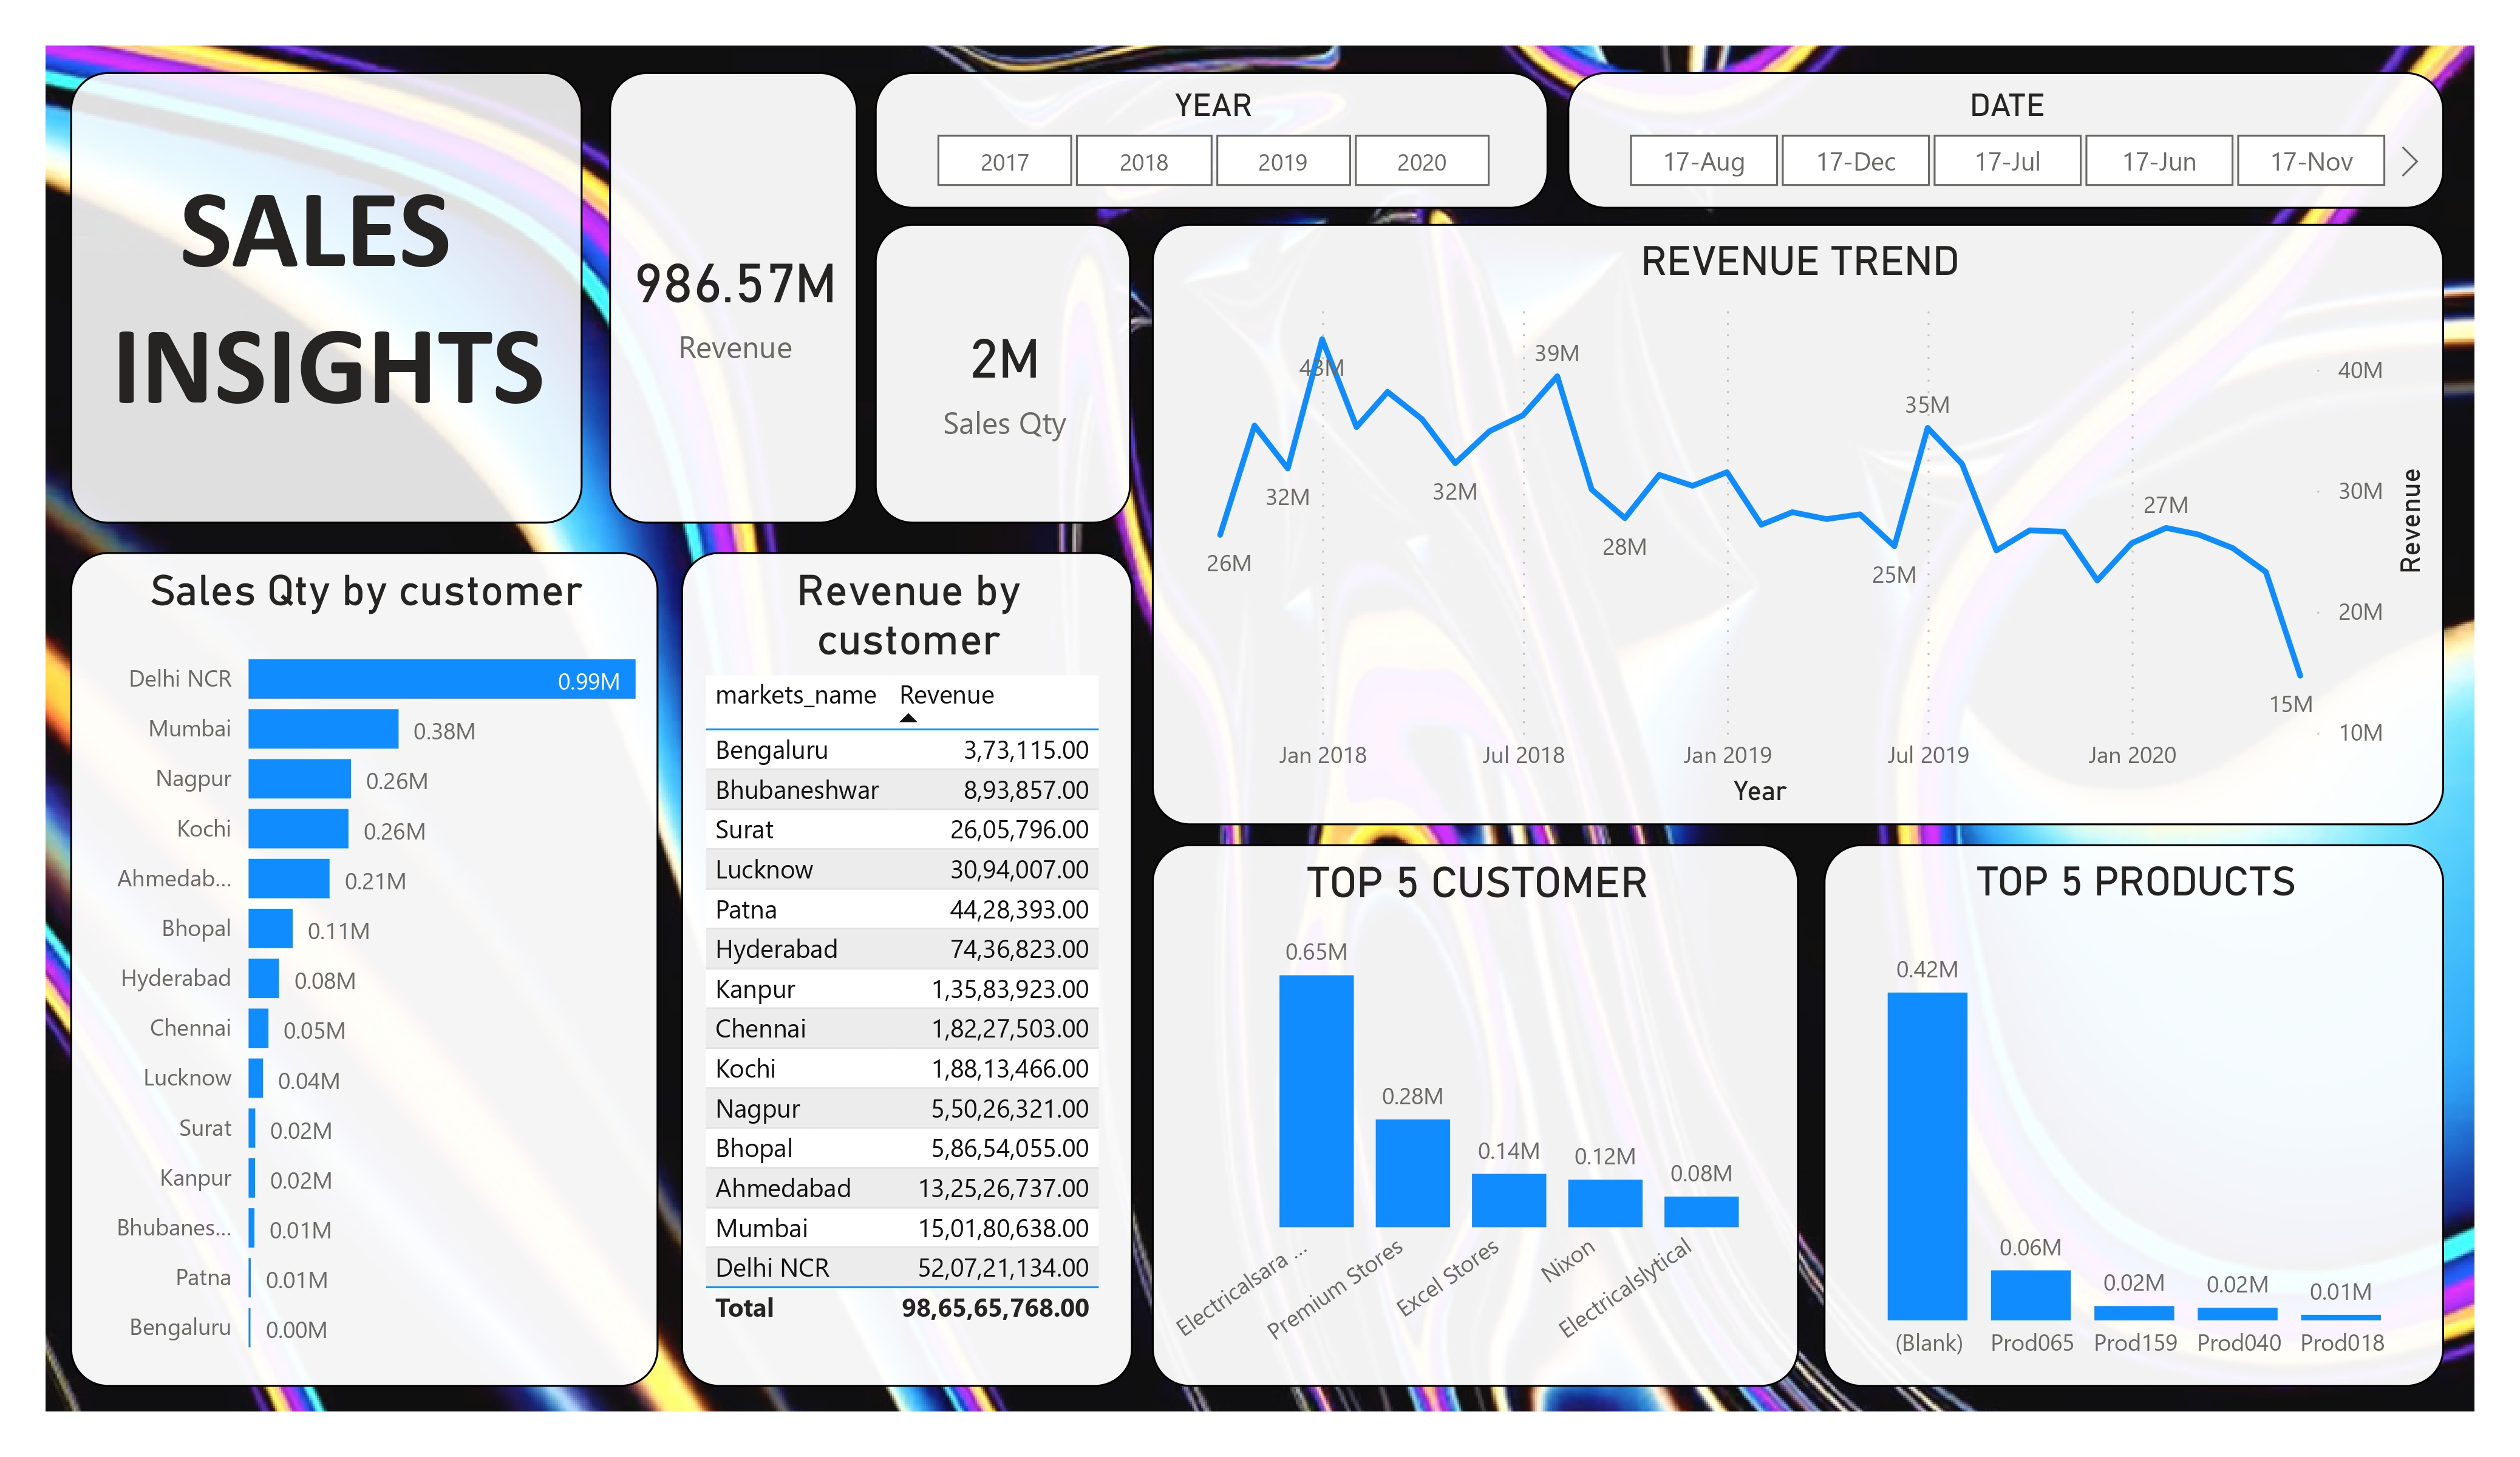

The dashboard page shown, as its layout file describes it:
{"tool":"powerbi","page":{"name":"Page 1","canvas":[1280,720],"ordinal":0},"visuals":[{"type":"card","fields":{"Values":["Basemeasures.Revenue"]},"box":[296.6,13.9,131.8,238.3],"z":0},{"type":"card","fields":{"Values":["Basemeasures.Sales Qty"]},"box":[437.3,93.8,134.4,158.4],"z":1000},{"type":"tableEx","title":"Revenue by customer","fields":{"Values":["sales markets.markets_name","Basemeasures.Revenue"]},"box":[334.6,267.5,238.3,439.9],"z":2000},{"type":"barChart","title":"Sales Qty by customer","fields":{"Y":["Basemeasures.Sales Qty"],"Category":["sales markets.markets_name"]},"box":[12.7,267.5,310.6,439.9],"z":3000},{"type":"slicer","title":"YEAR","fields":{"Values":["sales date.year"]},"box":[437.3,13.9,354.9,72.3],"z":4000},{"type":"slicer","title":"DATE","fields":{"Values":["sales date.date_yy_mmm"]},"box":[802.4,13.9,461.4,72.3],"z":5000},{"type":"clusteredColumnChart","title":"TOP 5 CUSTOMER","fields":{"Category":["sales customers.custmer_name"],"Y":["Basemeasures.Sales Qty"]},"box":[583.1,420.8,341,286.5],"z":6000},{"type":"columnChart","title":"TOP 5 PRODUCTS","fields":{"Category":["sales products.product_code"],"Y":["Basemeasures.Sales Qty"]},"box":[936.7,420.8,327,286.5],"z":7000},{"type":"lineChart","title":"REVENUE TREND","fields":{"Y2":["Basemeasures.Revenue"],"Category":["sales date.cy_date.Variation.Date Hierarchy.Year","sales date.cy_date.Variation.Date Hierarchy.Quarter","sales date.cy_date.Variation.Date Hierarchy.Month","sales date.cy_date.Variation.Date Hierarchy.Day"]},"box":[583.1,93.8,680.7,316.9],"z":8000},{"type":"textbox","box":[12.7,13.9,270,238.3],"z":9000}]}

Visuals, with their boxes on the page's 1280x720 design canvas (x1, y1, x2, y2). These are canvas units, not pixel positions in the 2520x1457 screenshot, which may show the page scaled, cropped or inside an application window:
card - Basemeasures.Revenue: box=[297, 14, 428, 252]
card - Basemeasures.Sales Qty: box=[437, 94, 572, 252]
"Revenue by customer" tableEx: box=[335, 268, 573, 707]
"Sales Qty by customer" barChart: box=[13, 268, 323, 707]
"YEAR" slicer: box=[437, 14, 792, 86]
"DATE" slicer: box=[802, 14, 1264, 86]
"TOP 5 CUSTOMER" clusteredColumnChart: box=[583, 421, 924, 707]
"TOP 5 PRODUCTS" columnChart: box=[937, 421, 1264, 707]
"REVENUE TREND" lineChart: box=[583, 94, 1264, 411]
textbox: box=[13, 14, 283, 252]
